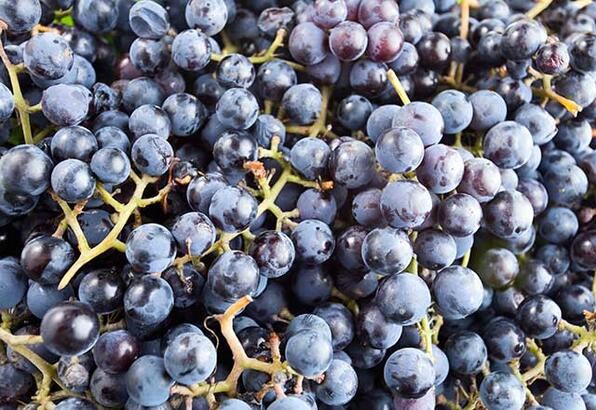Grape: (107, 64, 493, 344), (424, 264, 494, 320), (357, 228, 423, 284), (200, 251, 270, 296), (377, 176, 431, 232), (1, 144, 54, 193), (369, 127, 425, 173), (385, 272, 433, 322)
